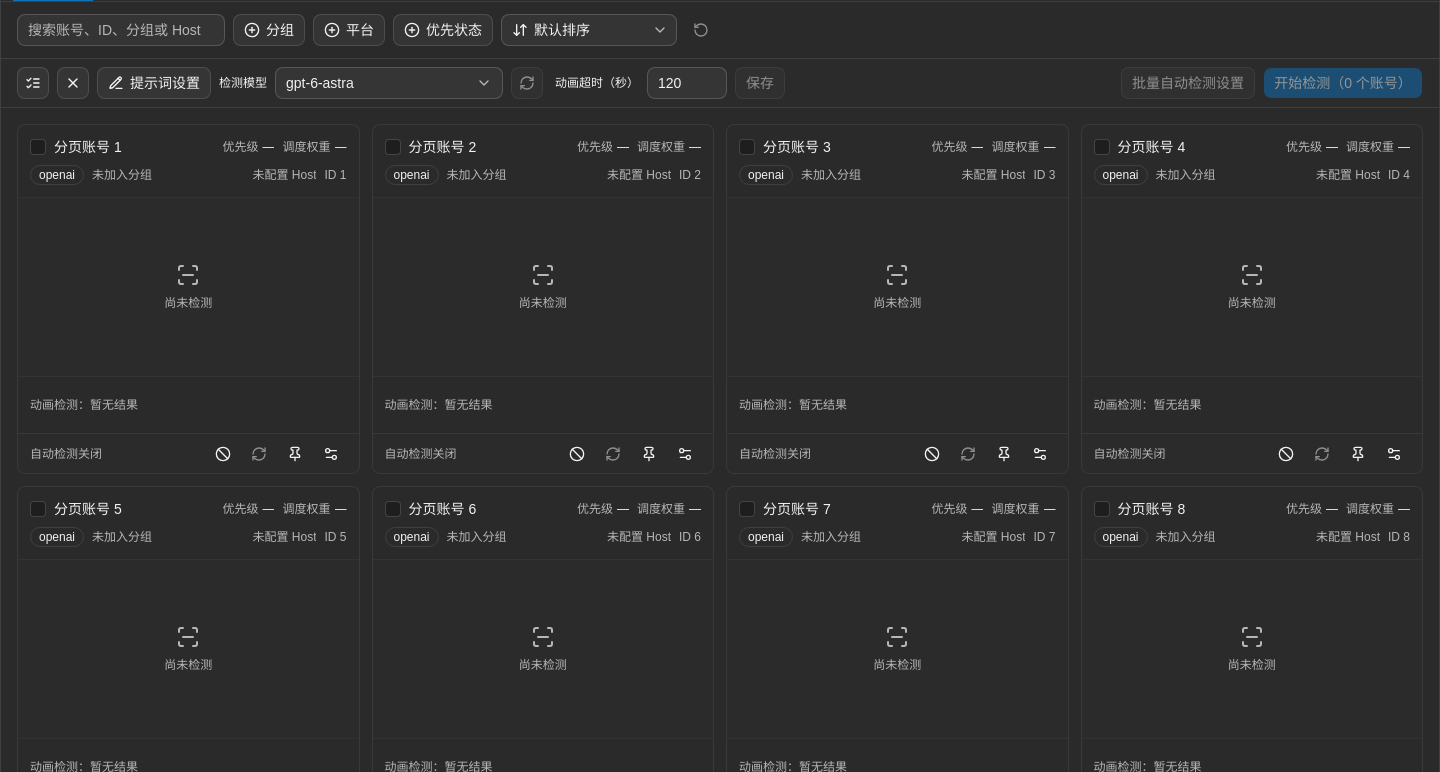
it: 翻页后保存无效超时，聚焦超时字段并保留原生效值
The width and height of the screenshot is (1440, 772).
Click the checkbox named "检测 分页账号 1" at (38, 147), box [30,139,46,155]
(page scrolled)
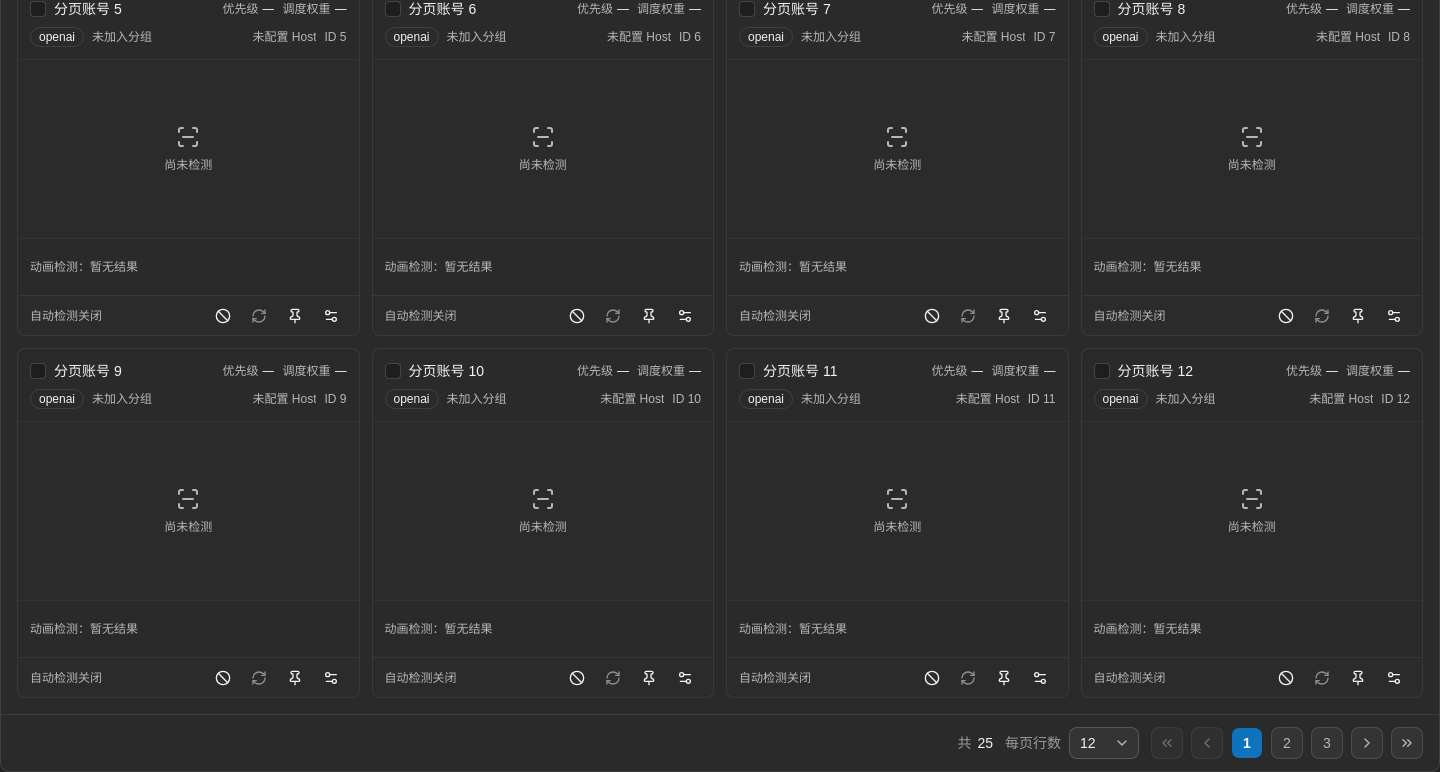
Click the button named "转到下一页" at (1367, 743), box [1351,727,1383,759]
(page scrolled)
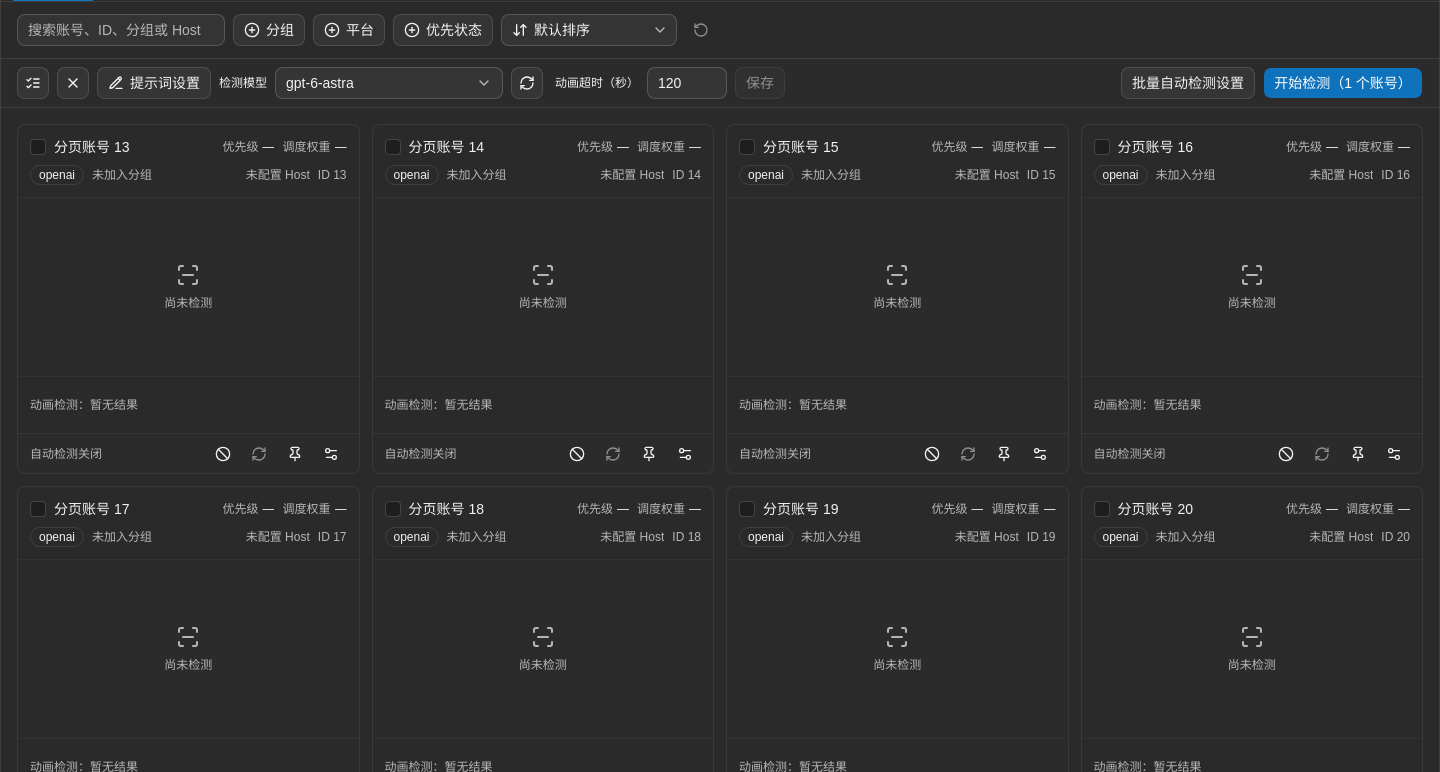
Replace the text in the number field labelled "动画超时（秒）" with "1" at (687, 83), box [647,67,727,99]
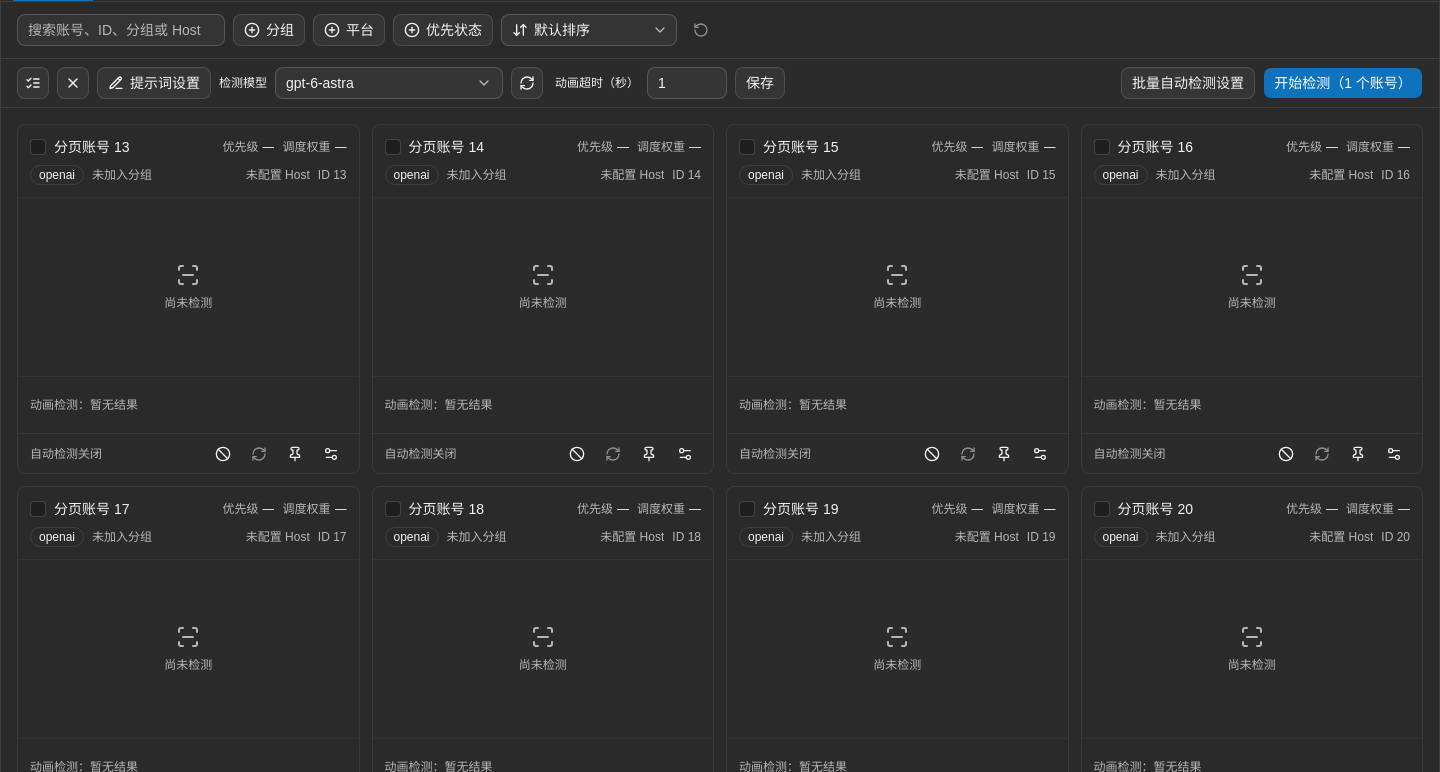
Click the button with aria-label "保存动画超时" at (760, 83), box [735,67,785,99]
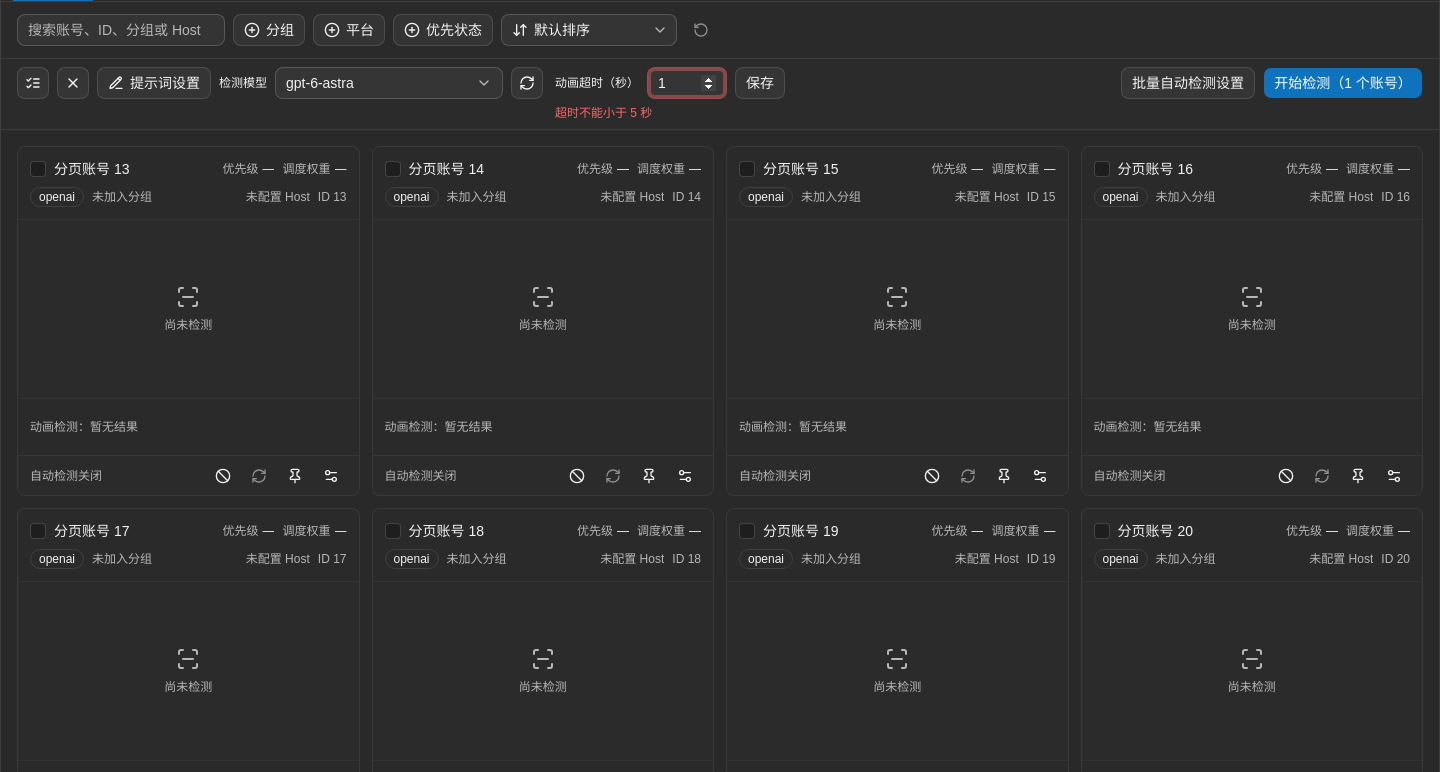
Expected: the text "超时不能小于 5 秒" is shown, [555,106,652,120]
